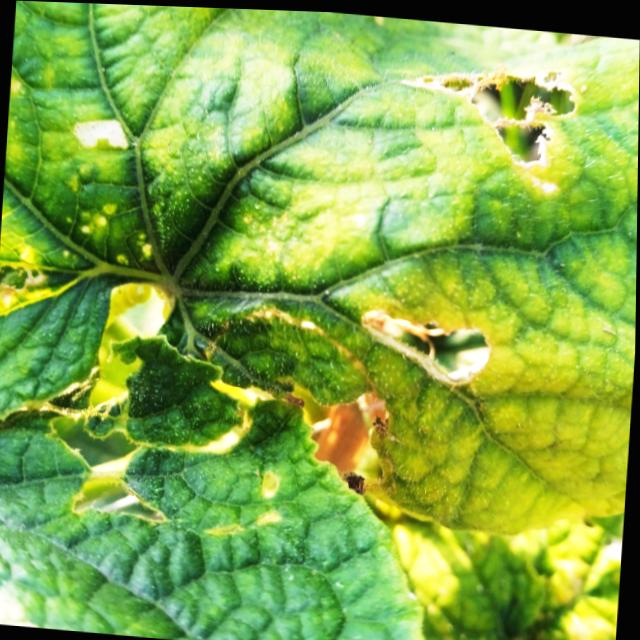Anthracnose: (405, 52, 585, 173), (354, 291, 504, 387)
